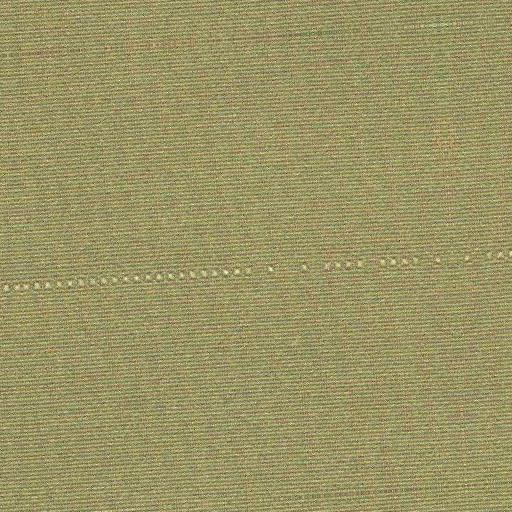slub: (4, 250, 512, 298)
